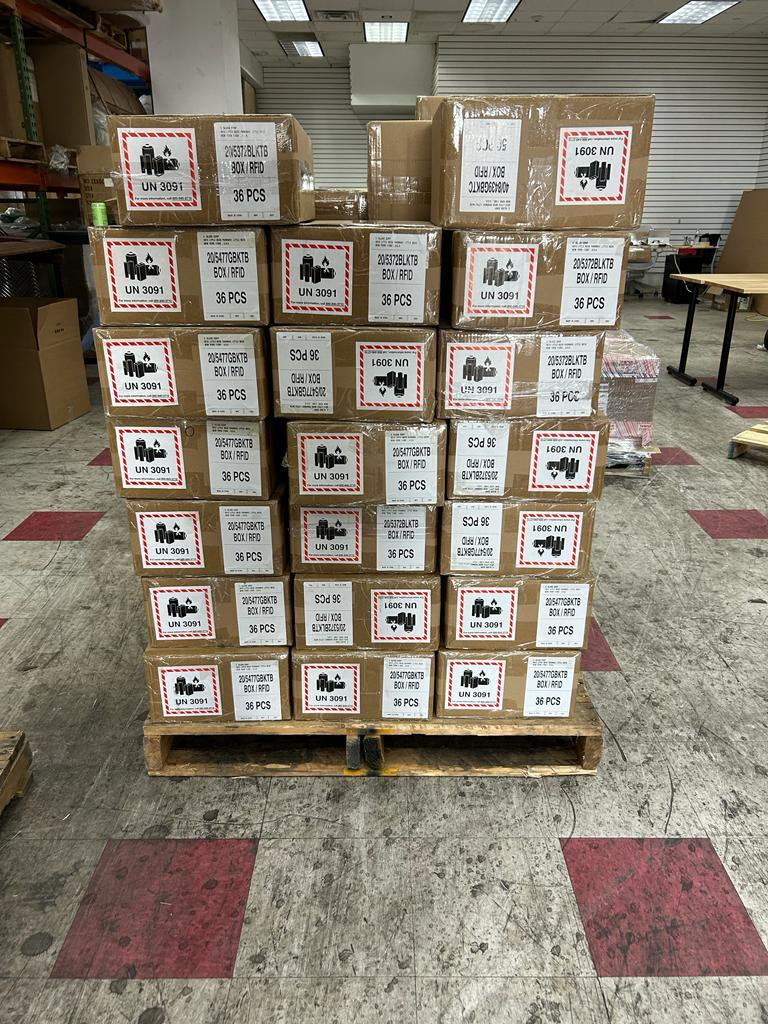box: (452, 89, 659, 232), (105, 94, 315, 229), (59, 211, 264, 342), (104, 641, 340, 744), (258, 219, 434, 346), (101, 395, 277, 516), (104, 566, 312, 667), (80, 316, 273, 423), (452, 232, 651, 335), (108, 473, 293, 577), (264, 320, 433, 429), (274, 417, 456, 514), (280, 496, 445, 594), (292, 554, 442, 658), (433, 567, 608, 652), (442, 417, 601, 499), (284, 633, 427, 716), (443, 499, 599, 574), (446, 330, 599, 405), (448, 645, 595, 721)
